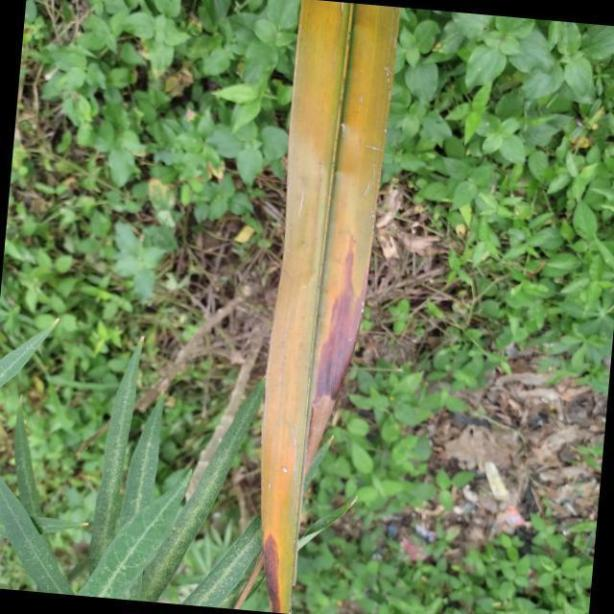Megnesium: (259, 0, 400, 614)
